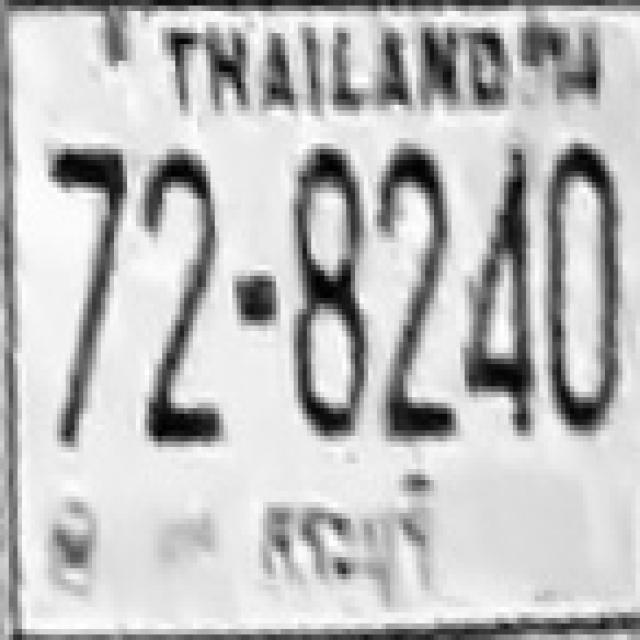0: (544, 138, 618, 430)
2: (138, 204, 221, 442), (140, 146, 219, 389), (375, 143, 449, 392), (379, 204, 454, 436)
4: (462, 144, 532, 430), (462, 141, 532, 350)
7: (48, 144, 127, 375), (46, 144, 125, 353)
8: (289, 146, 364, 433)
SRI: (231, 473, 441, 610)
